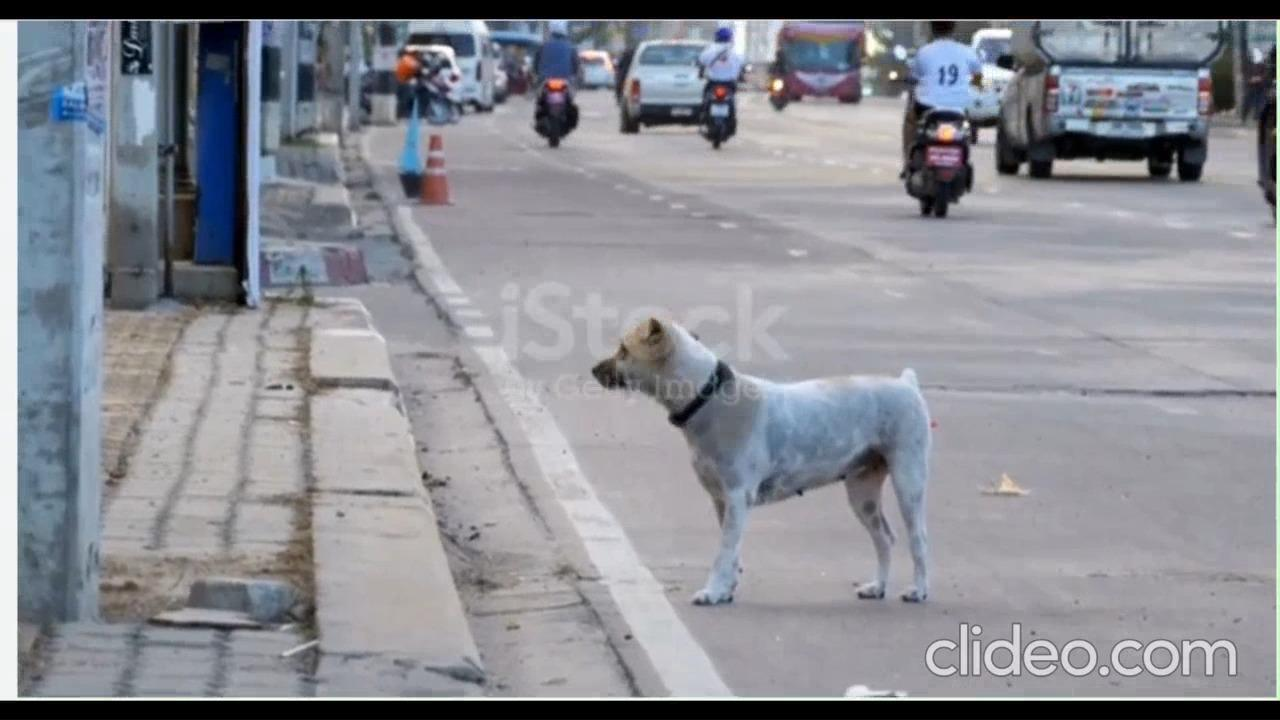dog: (587, 284, 935, 596)
